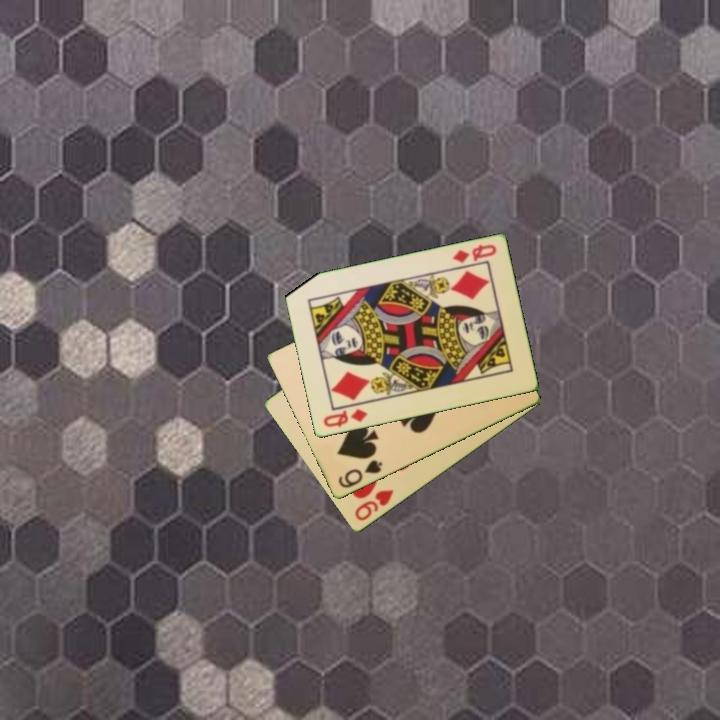6s: (334, 457, 386, 491)
9h: (351, 486, 397, 524)
Qd: (319, 405, 370, 430), (448, 241, 499, 266)
